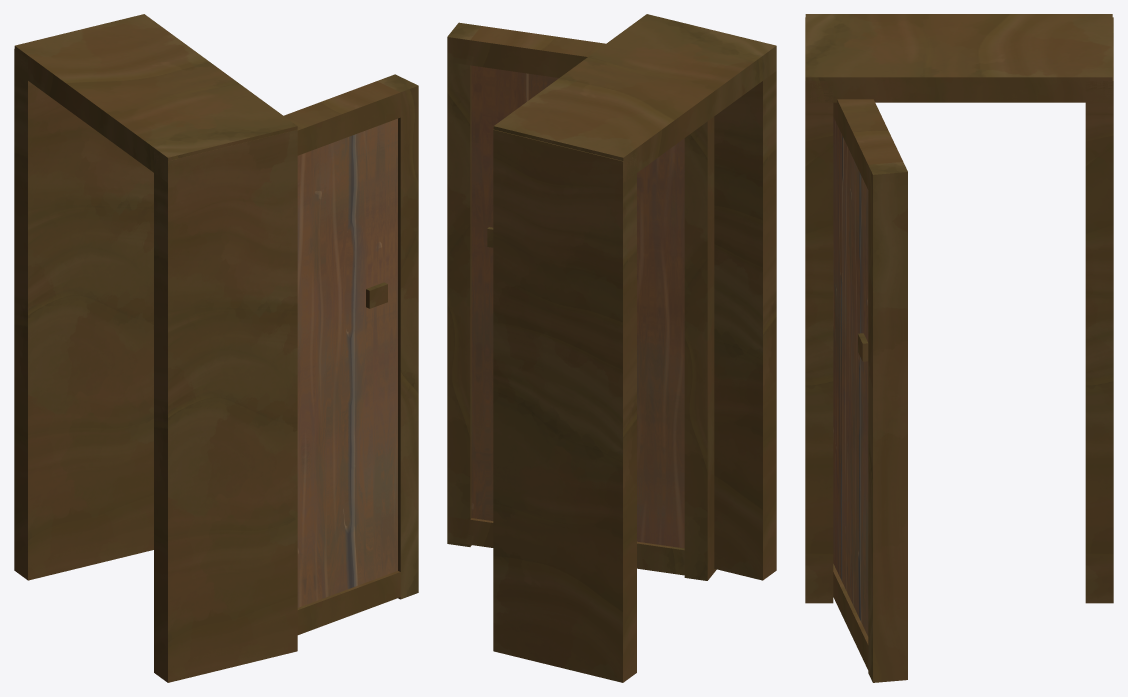
Rendered from porta2A.fbx.
3 renders of one model, left to right at view 1: azimuth 30°, elevation 25°; view 2: azimuth 150°, elevation 25°; view 3: azimuth 270°, elevation 25°, orthographic.
Parts seen in each view (by area): view 1: Cube.014, Cube.088, Cube.145, Cube.135, Cube.141, Cube.144, Cube.142; view 2: Cube.088, Cube.145, Cube.014, Cube.135, Cube.143, Cube.141, Cube.144, Cube.142; view 3: Cube.135, Cube.141, Cube.145, Cube.088, Cube.014, Cube.144, Cube.142.
Boxes of the visible parts, box(x1,y1,x2,y2) form: Cube.014: box(154, 129, 297, 682); Cube.088: box(14, 49, 153, 580); Cube.145: box(297, 118, 397, 607); Cube.135: box(14, 14, 297, 182); Cube.141: box(377, 74, 418, 599); Cube.144: box(284, 81, 417, 155); Cube.142: box(297, 571, 400, 634); Cube.088: box(493, 129, 636, 682); Cube.145: box(471, 65, 684, 548); Cube.014: box(714, 71, 776, 580); Cube.135: box(493, 14, 776, 182); Cube.143: box(684, 117, 716, 580); Cube.141: box(447, 22, 481, 546); Cube.144: box(448, 26, 605, 77); Cube.142: box(448, 516, 684, 575); Cube.135: box(805, 14, 1112, 102); Cube.141: box(868, 162, 907, 682); Cube.145: box(833, 117, 868, 636); Cube.088: box(1085, 17, 1113, 603); Cube.014: box(805, 17, 833, 603); Cube.144: box(833, 99, 903, 189); Cube.142: box(833, 564, 868, 669).
Size of the model in its own units: 352 by 626 by 330.
